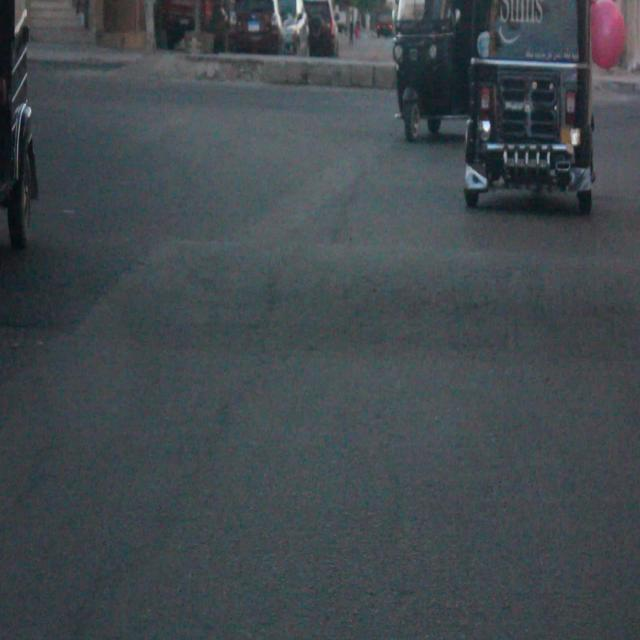NonMarked Bump: (55, 202, 620, 398)
